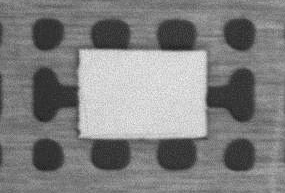DIE_CRACK: (88, 131, 183, 137)
